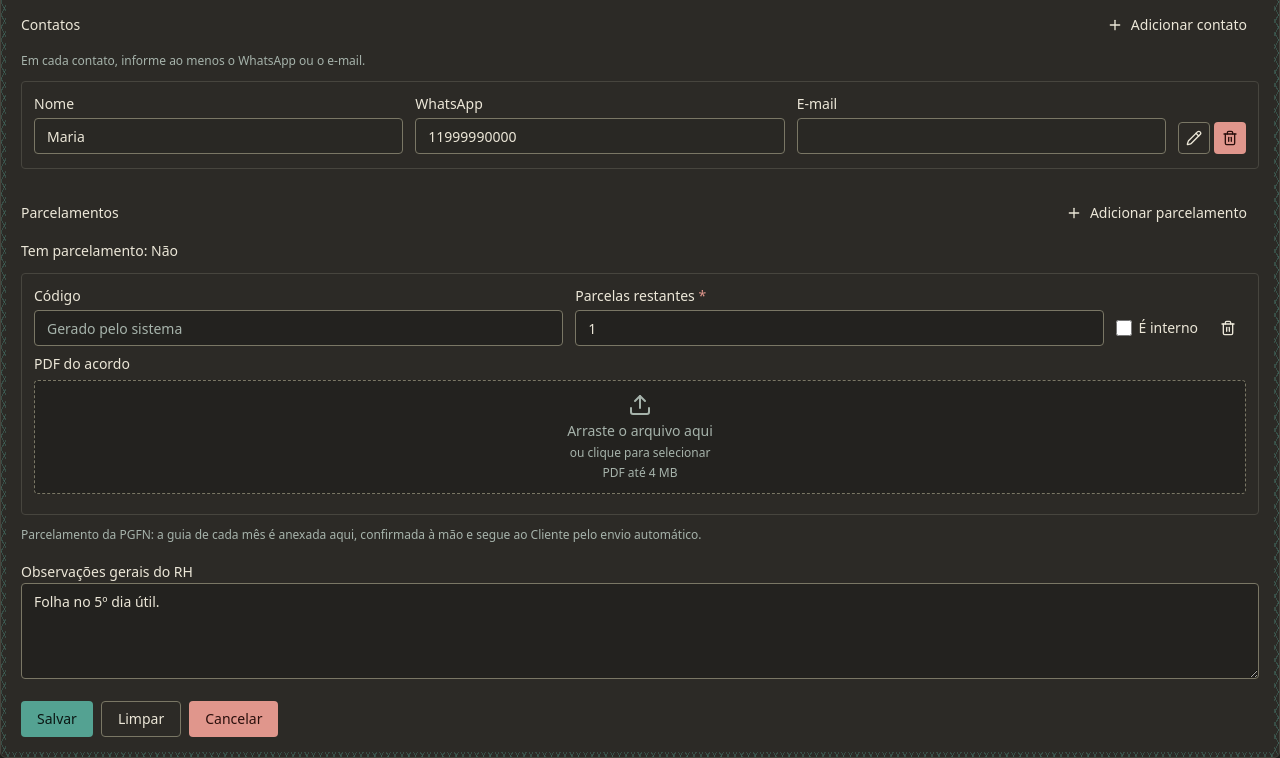
it: EditarCadastroRhContainer › falha de transporte ({}) mostra a causa e não navega
(page scrolled)
Click the button "Salvar" at (57, 719), box left=21, top=701, right=93, bottom=737
(page scrolled)
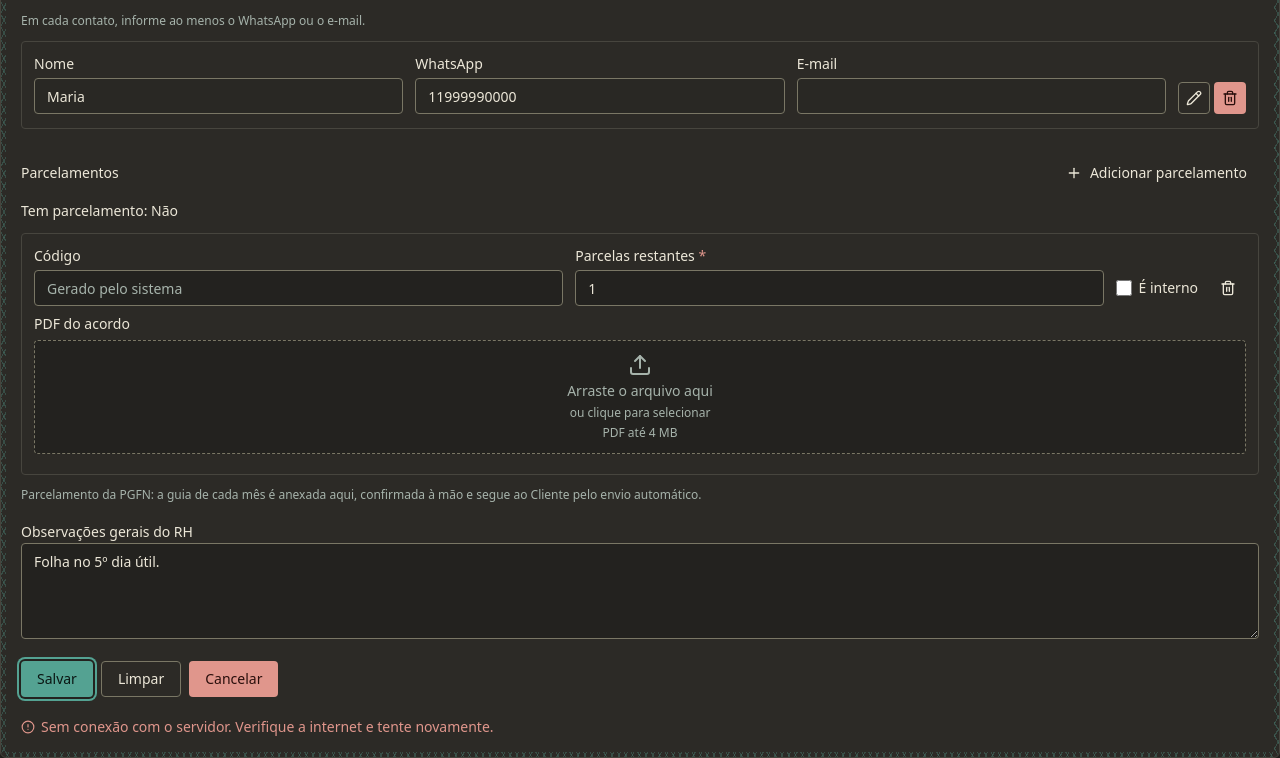
Now the text "Sem conexão com o servidor. Verifique a internet e tente novamente." is shown, box left=21, top=717, right=494, bottom=736
